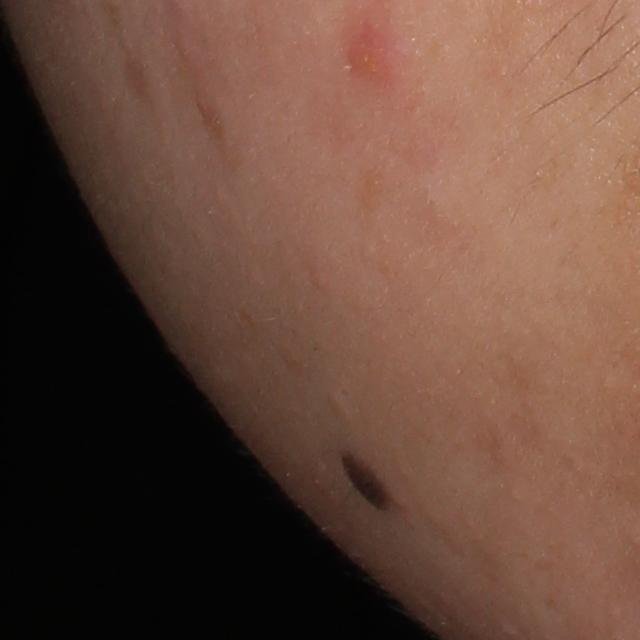comedo: (326, 393, 352, 419)
nevus: (335, 448, 395, 513)
papule: (349, 28, 389, 74)
